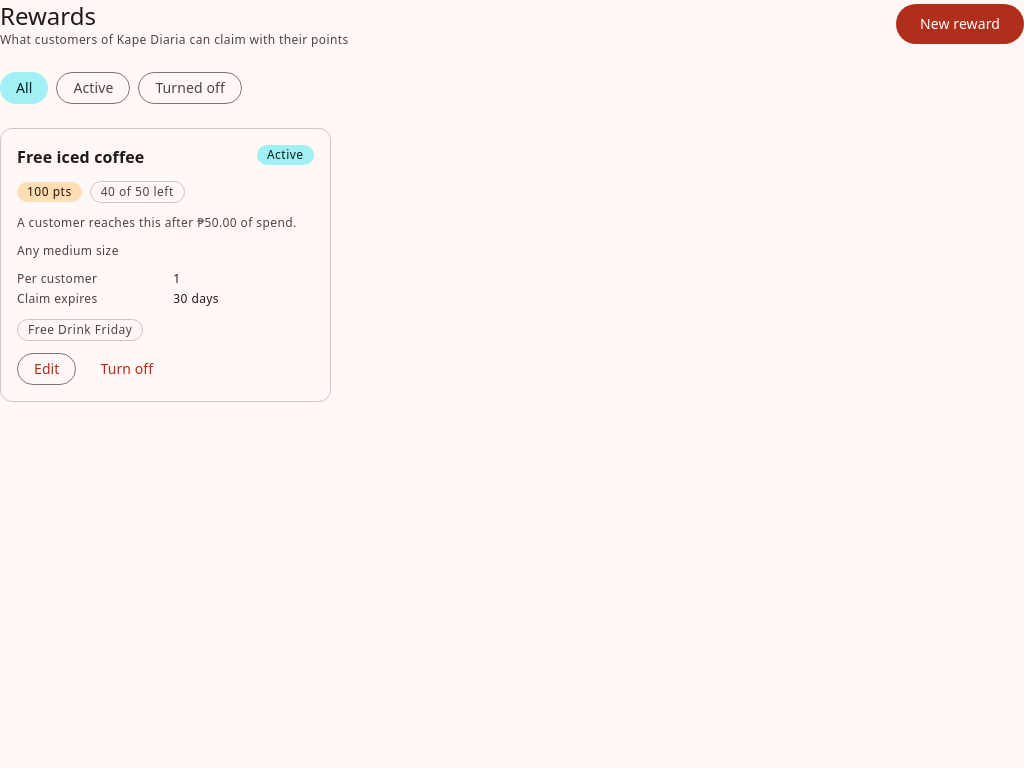
Test: RewardsManager: the edit flow › does not offer to re-parent an existing reward onto another campaign
Click the button "Edit" at (47, 369), box [17,353,76,385]
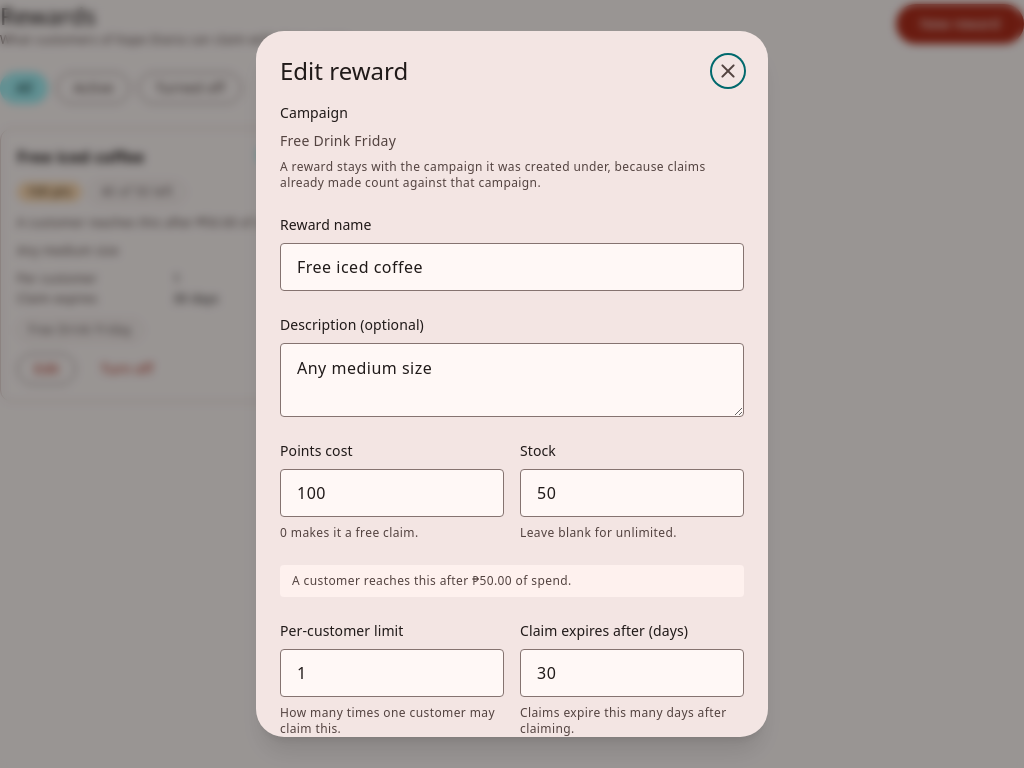
Expected: the text "stays with the campaign it was created under" is shown, [280,158,706,191]
